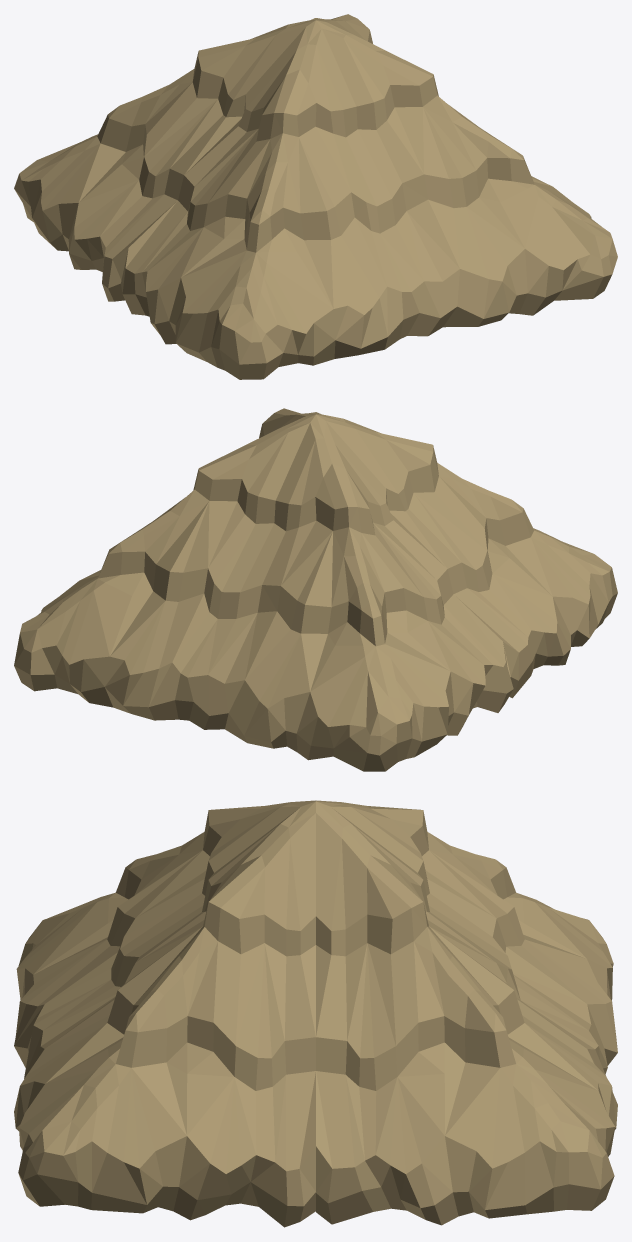
File: rpgpp_ag_gate_balcony_03_roof_02b.fbx
3 renders of one model, top to bottom at view 1: azimuth 30°, elevation 25°; view 2: azimuth 150°, elevation 25°; view 3: azimuth 270°, elevation 25°, orthographic. The views are drawn at different scales.
Parts seen in each view (by area): view 1: rpgpp_ag_gate_balcony_03_roof_02b; view 2: rpgpp_ag_gate_balcony_03_roof_02b; view 3: rpgpp_ag_gate_balcony_03_roof_02b.
Part boxes in pixels (x1,y1,x2,y2): rpgpp_ag_gate_balcony_03_roof_02b: (14, 14, 617, 379); rpgpp_ag_gate_balcony_03_roof_02b: (14, 408, 617, 771); rpgpp_ag_gate_balcony_03_roof_02b: (14, 800, 617, 1227).
Bounding box in the file's own units: 6.06 × 3.37 × 6.04.
